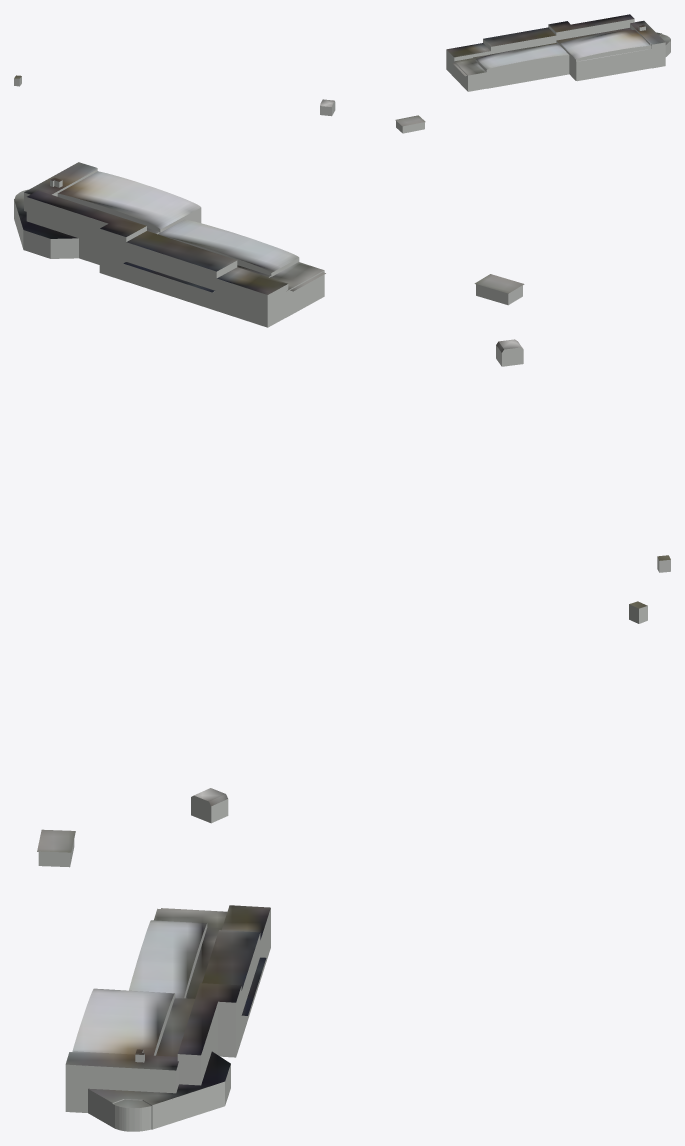
File: LSZH_3_0.glb
3 views of the same model, one above another, from view 1: azimuth 30°, elevation 25°; view 2: azimuth 150°, elevation 25°; view 3: azimuth 270°, elevation 25° (orthographic). The views are drawn at different scales.
Visible parts, largest first — view 1: building_d1c7dd855020764f, building_5045899a3f77b4be; view 2: building_5045899a3f77b4be, building_d1c7dd855020764f; view 3: building_5045899a3f77b4be, building_d1c7dd855020764f.
Boxes of the visible parts, x1,y1,x2,y2 form: building_d1c7dd855020764f: (396, 19, 670, 133); building_5045899a3f77b4be: (395, 14, 670, 126); building_5045899a3f77b4be: (14, 162, 524, 295); building_d1c7dd855020764f: (14, 168, 522, 327); building_5045899a3f77b4be: (37, 829, 270, 1108); building_d1c7dd855020764f: (38, 839, 270, 1131).
Size of the model in its own units: 460 by 23.1 by 230.
2 materials, 1 textured.
